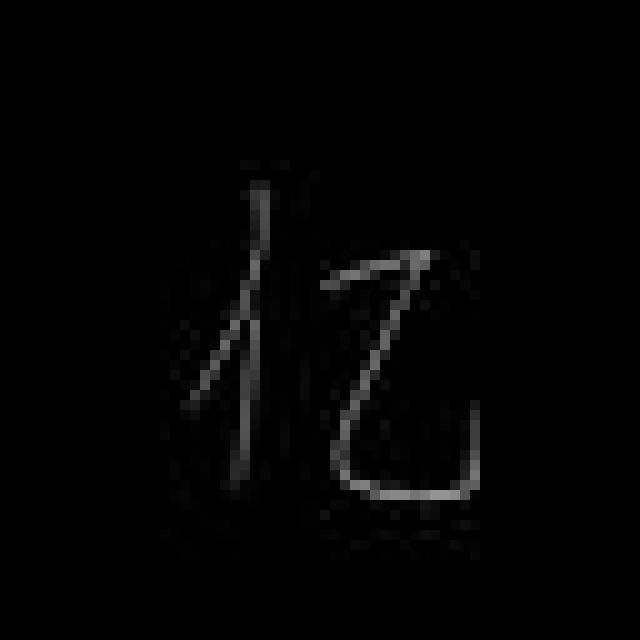100000 -a hundred thousand-: (177, 173, 498, 525)
